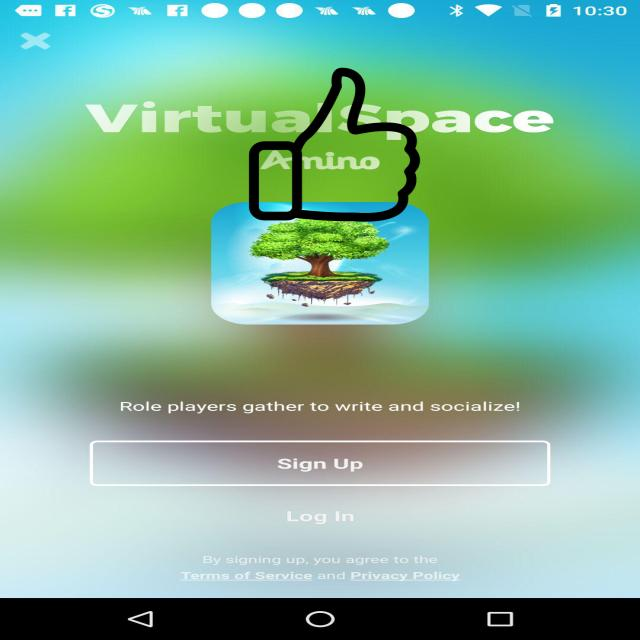privacy zuckering: (247, 67, 422, 222)
